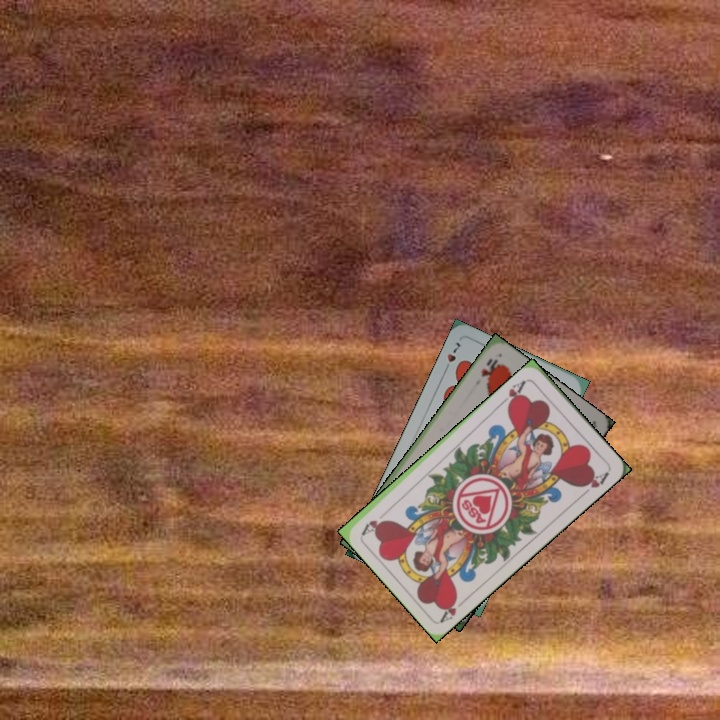H7: (440, 338, 463, 375)
HA: (497, 376, 530, 411), (437, 593, 471, 625)
HO: (477, 354, 501, 382)
